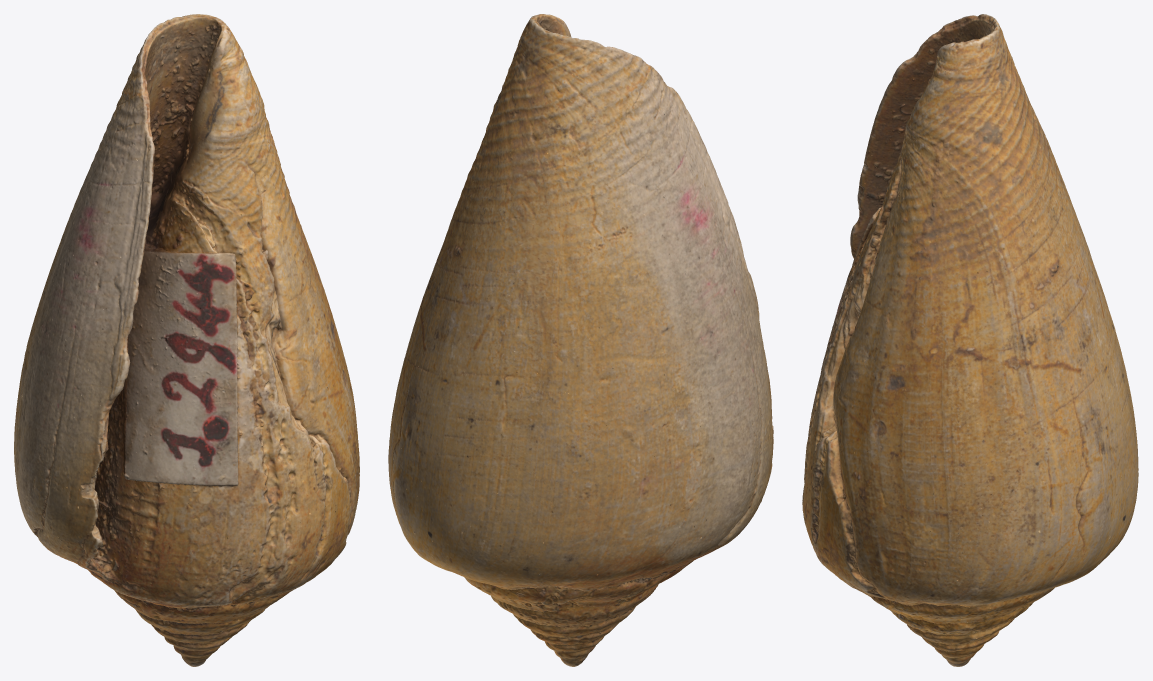
The model's file is eth000014005.glb.
The picture shows the model from 3 angles, left to right: view 1: azimuth 30°, elevation 25°; view 2: azimuth 150°, elevation 25°; view 3: azimuth 270°, elevation 25°; orthographic projection. The views are drawn at different scales.
Visible parts, largest first — view 1: Metashape tp blender; view 2: Metashape tp blender; view 3: Metashape tp blender.
Boxes of the visible parts, box(x1,y1,x2,y2) form: Metashape tp blender: box(14, 14, 359, 666); Metashape tp blender: box(388, 14, 773, 666); Metashape tp blender: box(802, 14, 1138, 666).
Bounding box in the file's own units: 19.7 × 37.38 × 17.75.
Materials: 1 (1 with a texture image).
